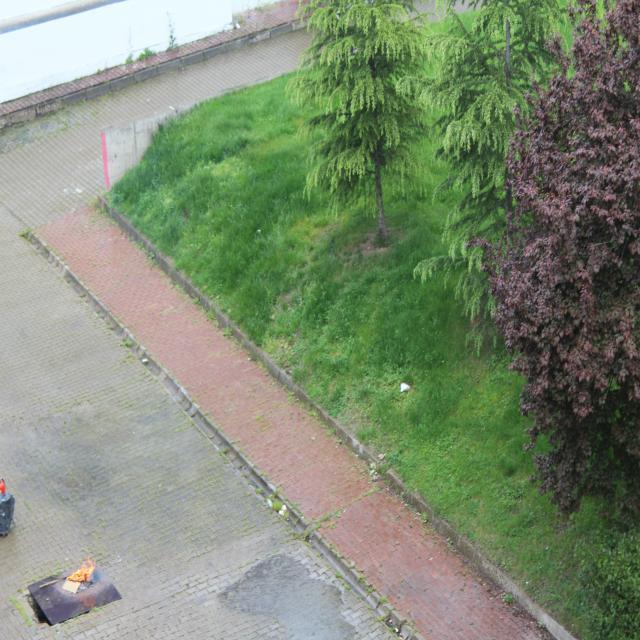fire: (66, 554, 97, 583)
